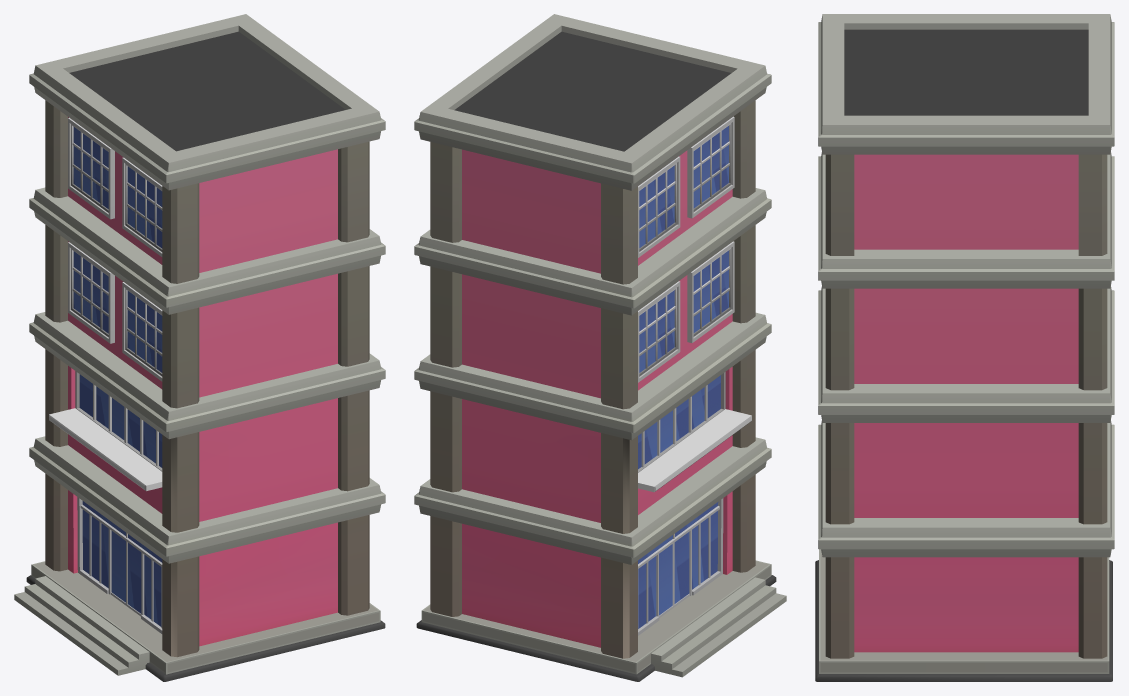
File: Building_9_1_PP.fbx
3 views of the same model, side by side, from view 1: azimuth 30°, elevation 25°; view 2: azimuth 150°, elevation 25°; view 3: azimuth 270°, elevation 25° (orthographic). The views are drawn at different scales.
Parts seen in each view (by area): view 1: Building_9_1_PP; view 2: Building_9_1_PP; view 3: Building_9_1_PP.
Part boxes in pixels (x1,y1,x2,y2): Building_9_1_PP: [14, 14, 385, 681]; Building_9_1_PP: [414, 14, 786, 681]; Building_9_1_PP: [815, 14, 1114, 681].
Size of the model in its own units: 947 by 1855 by 906.
